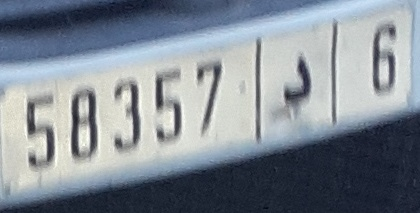3: (111, 77, 143, 153)
5: (153, 67, 186, 145), (24, 94, 57, 171)
6: (368, 21, 399, 96)
7: (195, 59, 224, 137)
8: (69, 86, 101, 163)
d: (279, 51, 315, 104)
